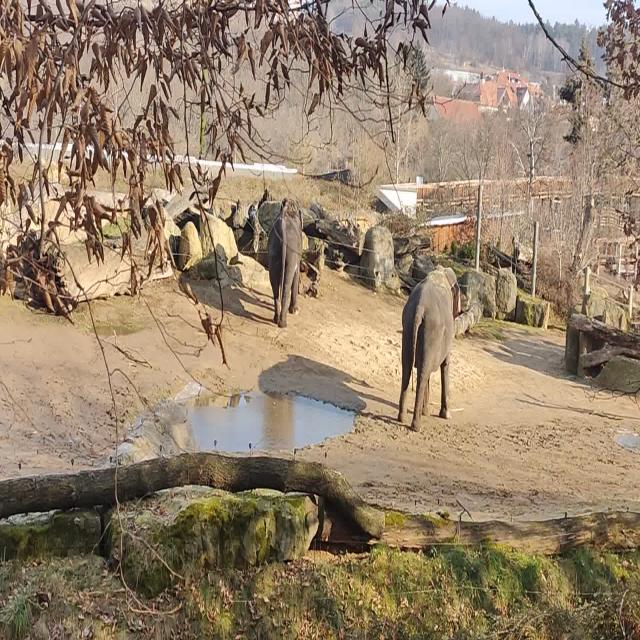elephant: (398, 265, 460, 432), (268, 197, 303, 328)
